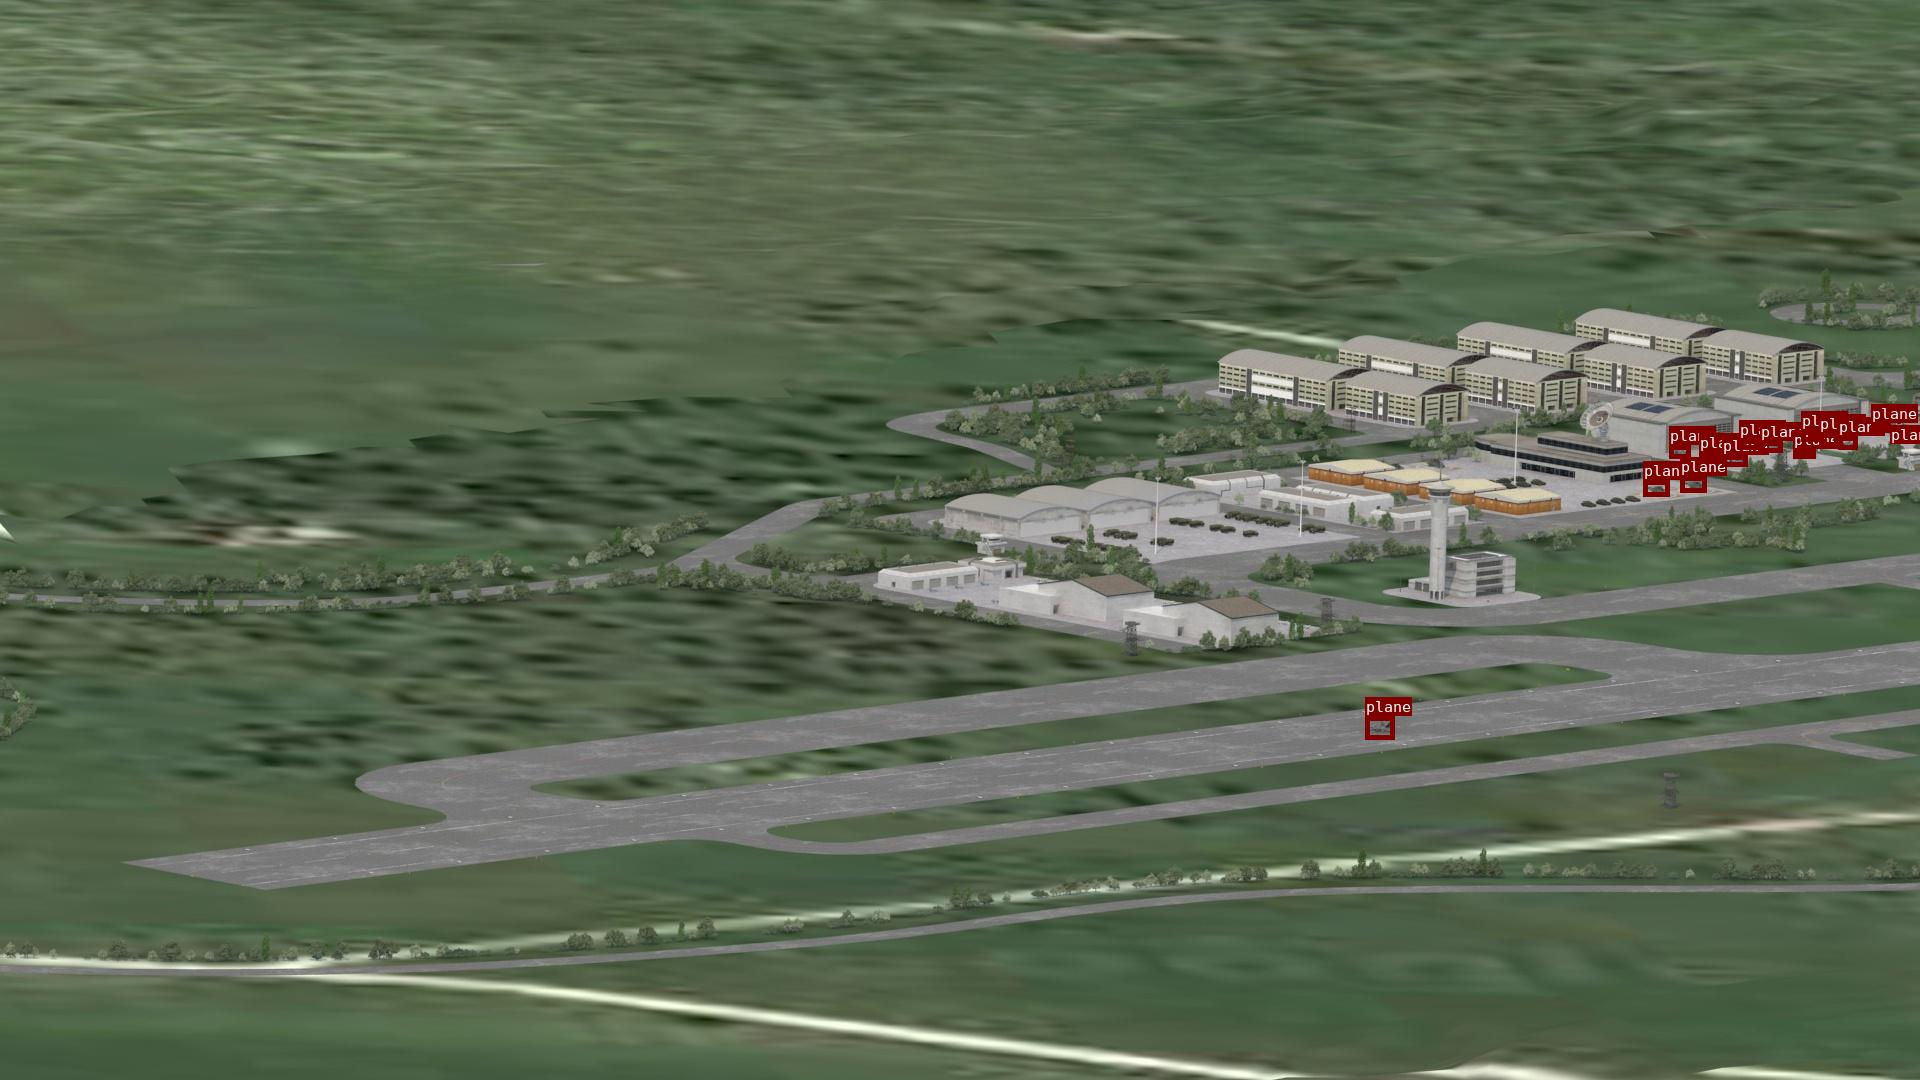plane: (1365, 716, 1394, 738), (1643, 480, 1669, 496), (1680, 476, 1706, 492), (1669, 444, 1691, 458), (1722, 455, 1747, 465), (1818, 433, 1838, 446), (1760, 440, 1782, 452), (1698, 452, 1722, 462), (1838, 436, 1857, 448), (1890, 425, 1908, 436), (1793, 448, 1815, 458), (1739, 439, 1759, 448), (1801, 430, 1818, 440), (1871, 423, 1890, 433)
